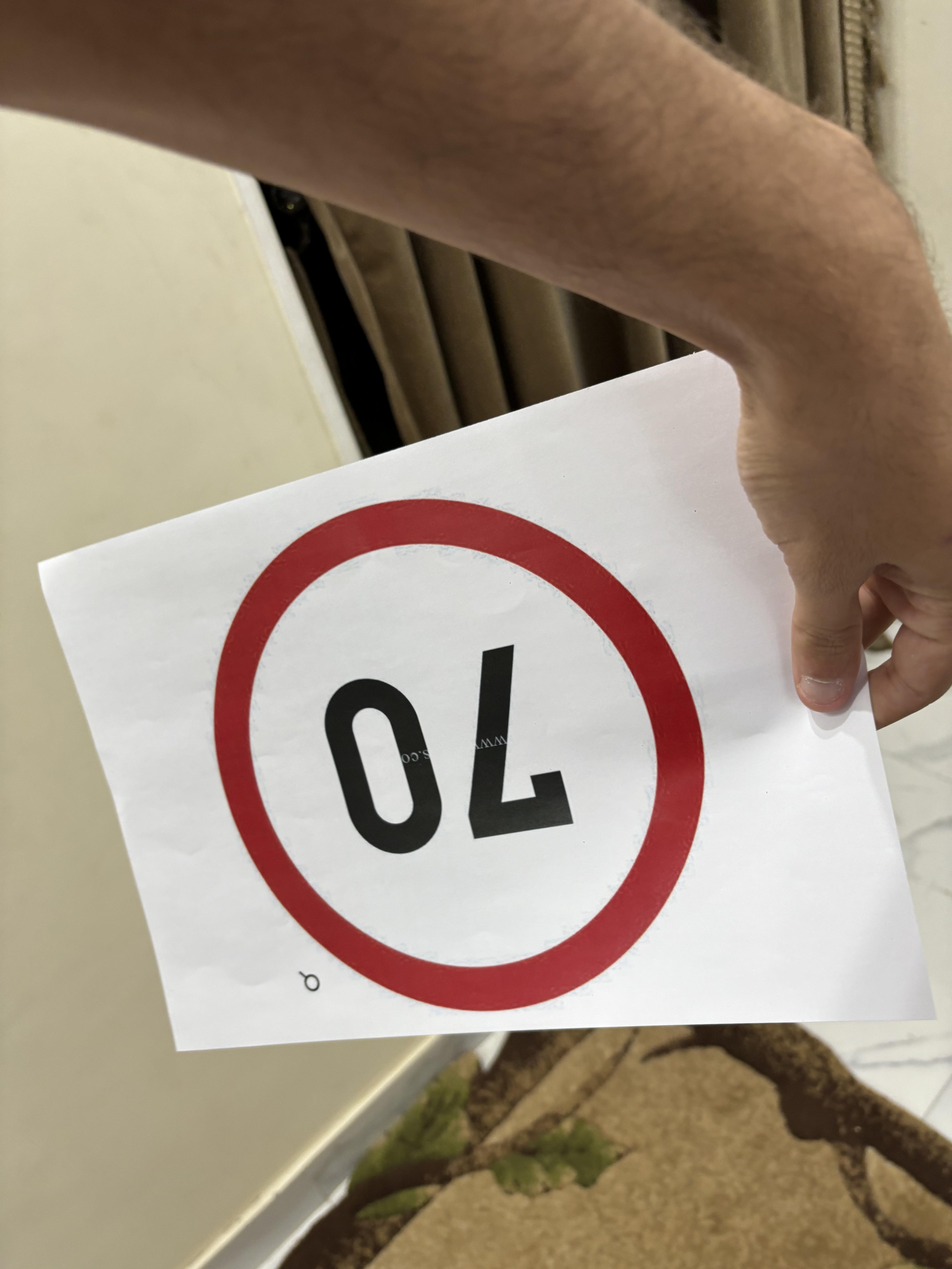70-Speed: (207, 489, 712, 1018)
